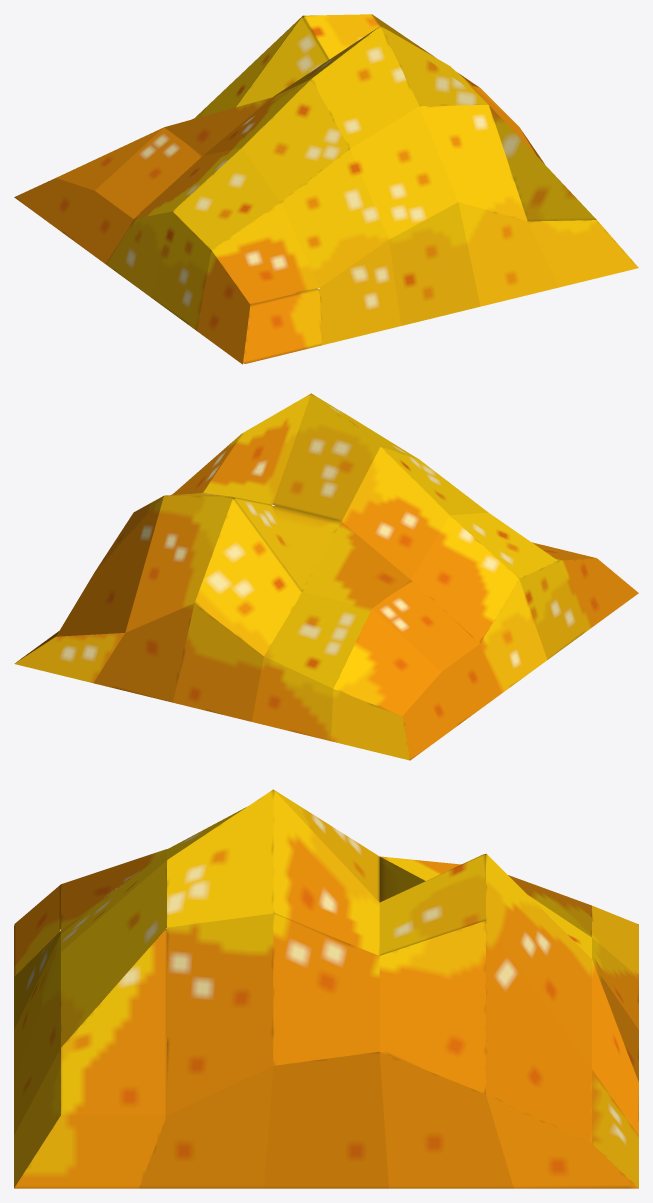
File: Gold Pile.fbx
3 views of the same model, one above another, from view 1: azimuth 30°, elevation 25°; view 2: azimuth 150°, elevation 25°; view 3: azimuth 270°, elevation 25° (orthographic). The views are drawn at different scales.
Parts seen in each view (by area): view 1: cuboid; view 2: cuboid; view 3: cuboid.
Part boxes in pixels (x1,y1,x2,y2): cuboid: [14, 14, 638, 364]; cuboid: [14, 393, 638, 760]; cuboid: [14, 789, 638, 1188].
Bounding box in the file's own units: 500 × 256 × 500.
Materials: 1 (1 with a texture image).
